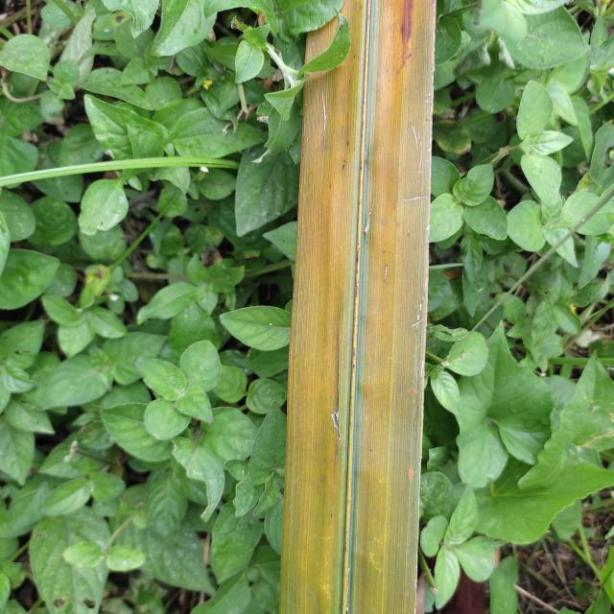Megnesium: (286, 0, 435, 614)
